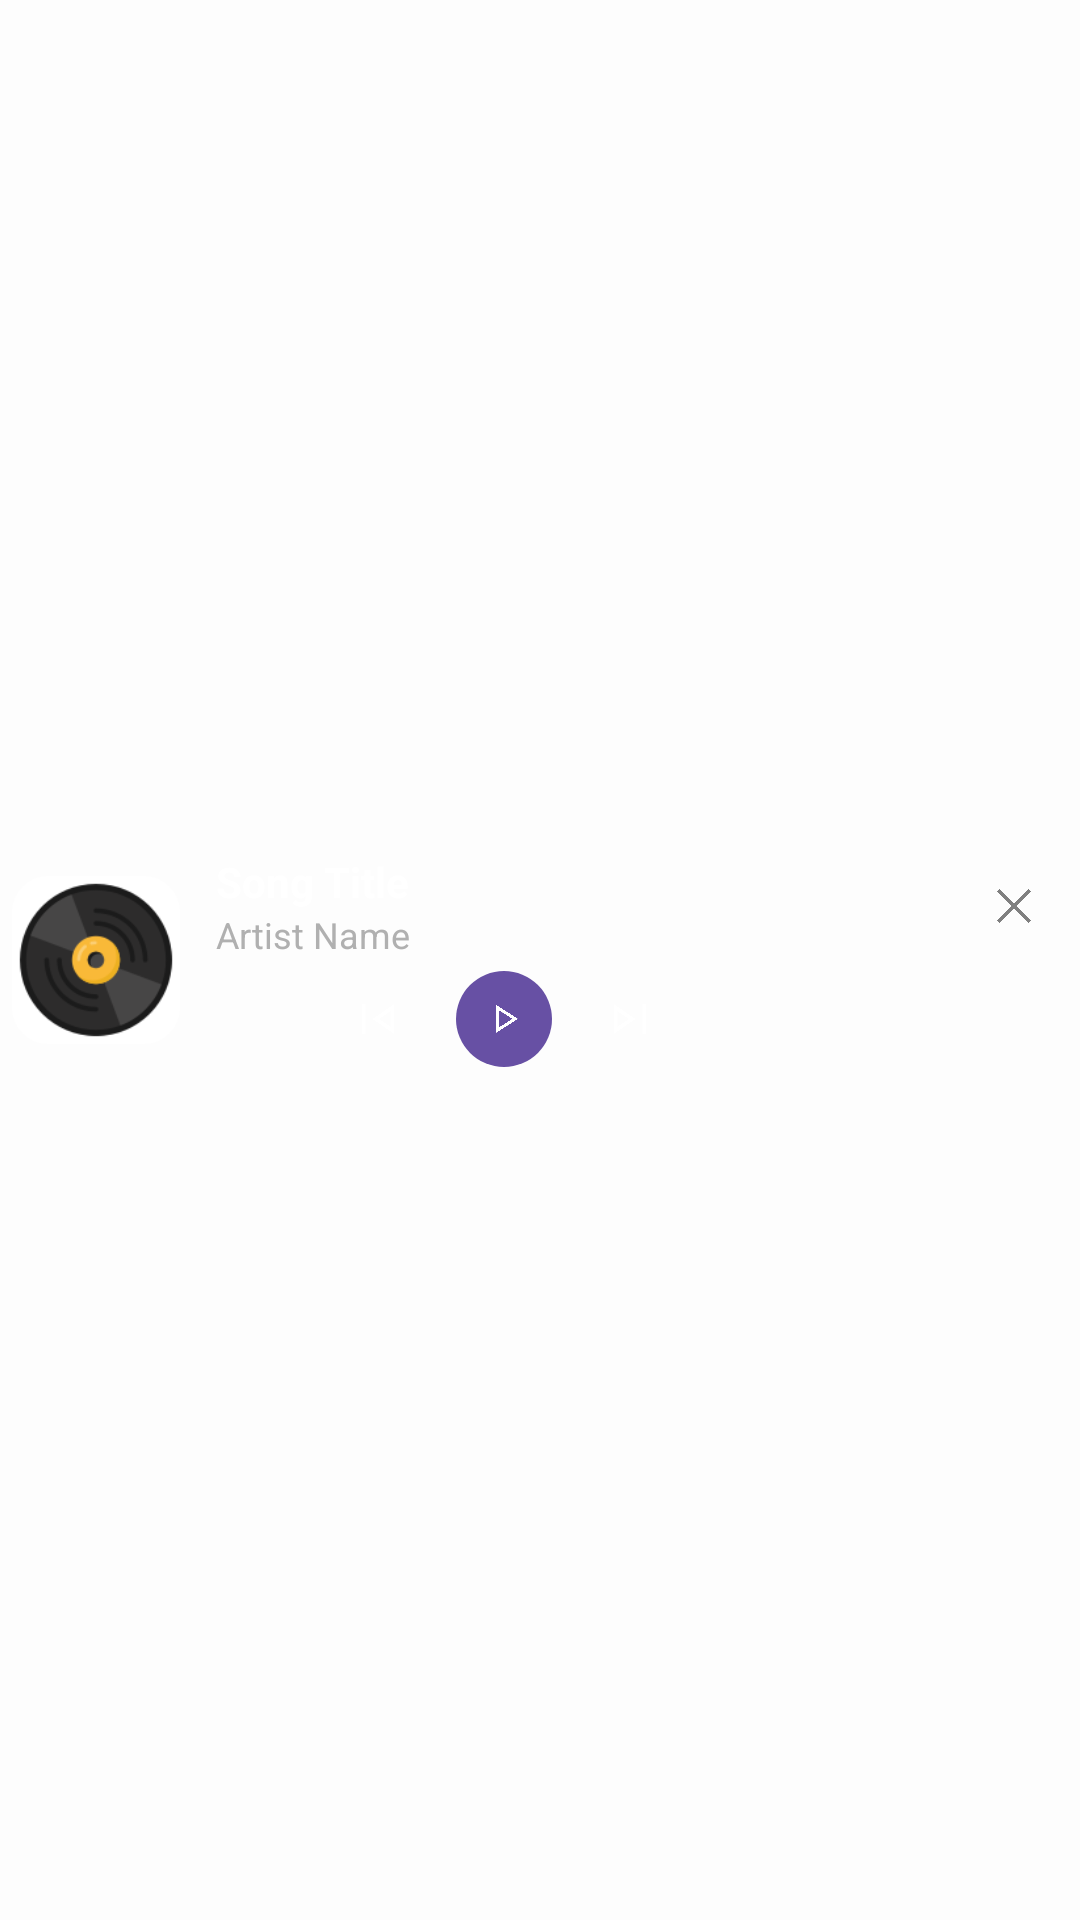

Where icons sit on this 1080w x 1920h app screen, as (x1, y1, x2, y2):
close: (997, 889, 1031, 923)
play: (456, 971, 552, 1067)
